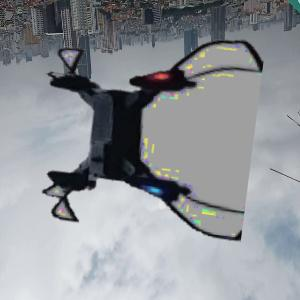drone: (36, 27, 255, 246)
